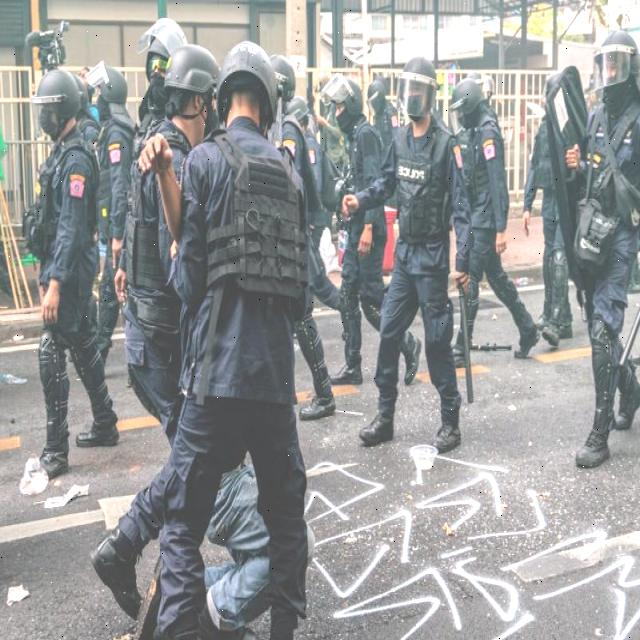police: (120, 30, 322, 640), (9, 2, 120, 523), (536, 9, 640, 516), (355, 44, 477, 475), (304, 28, 391, 450), (434, 44, 529, 425)
